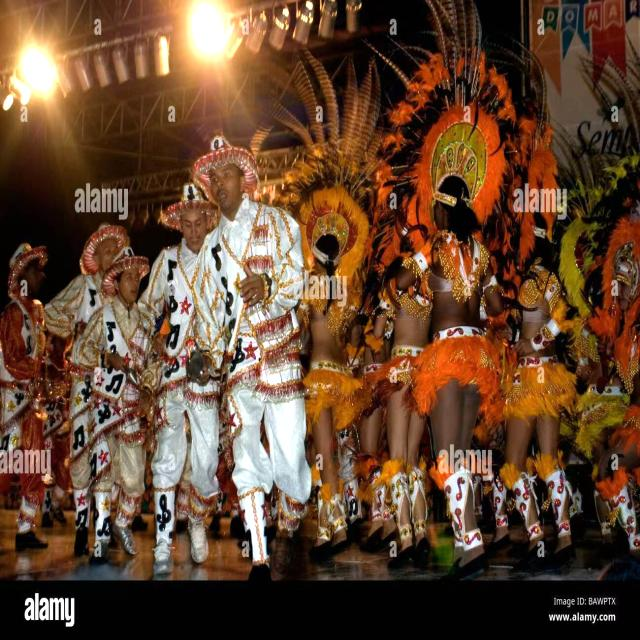Reeves-s Pheasant: (238, 62, 452, 198), (368, 0, 525, 140), (544, 13, 640, 236)
